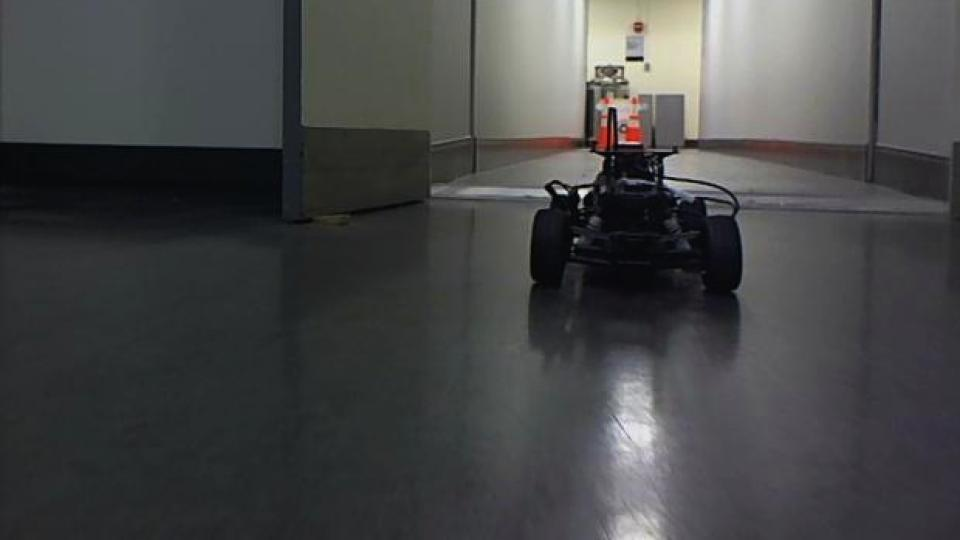car: (525, 104, 746, 296)
